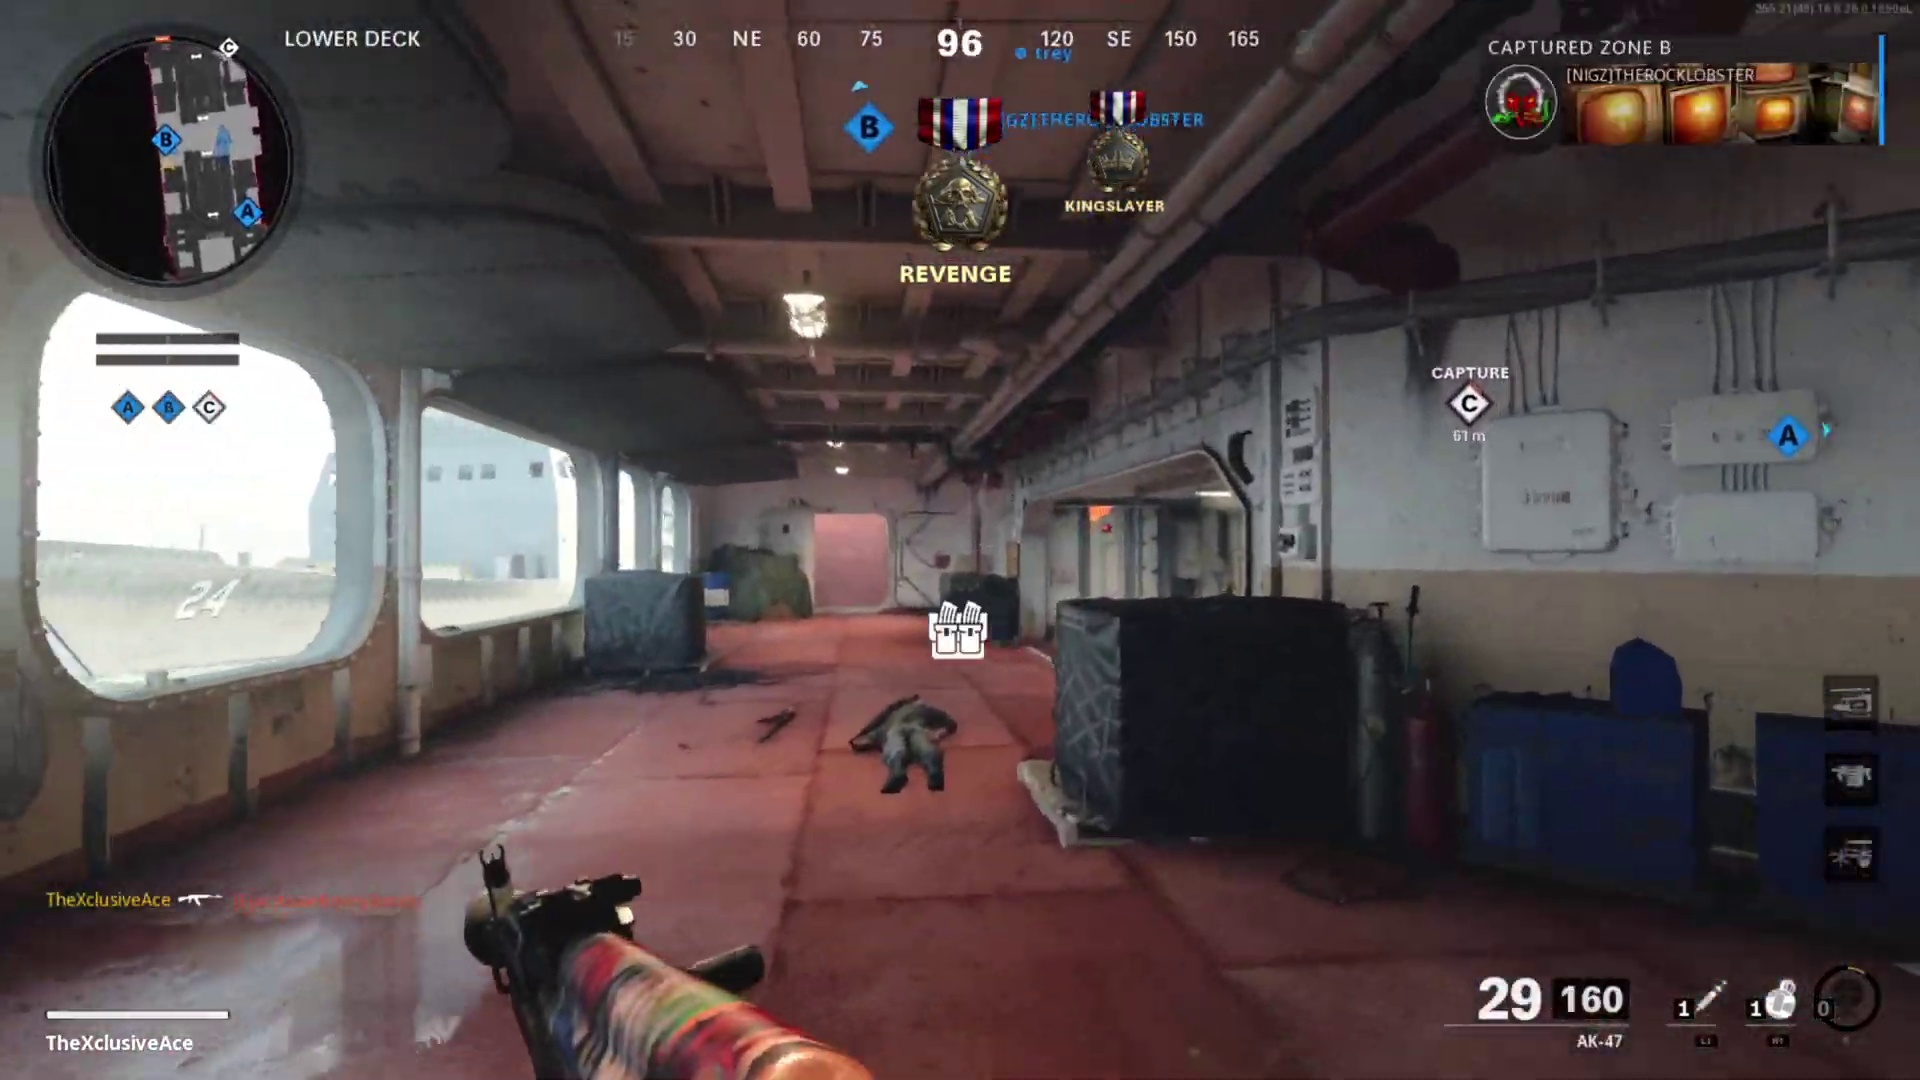person: (846, 692, 953, 791)
